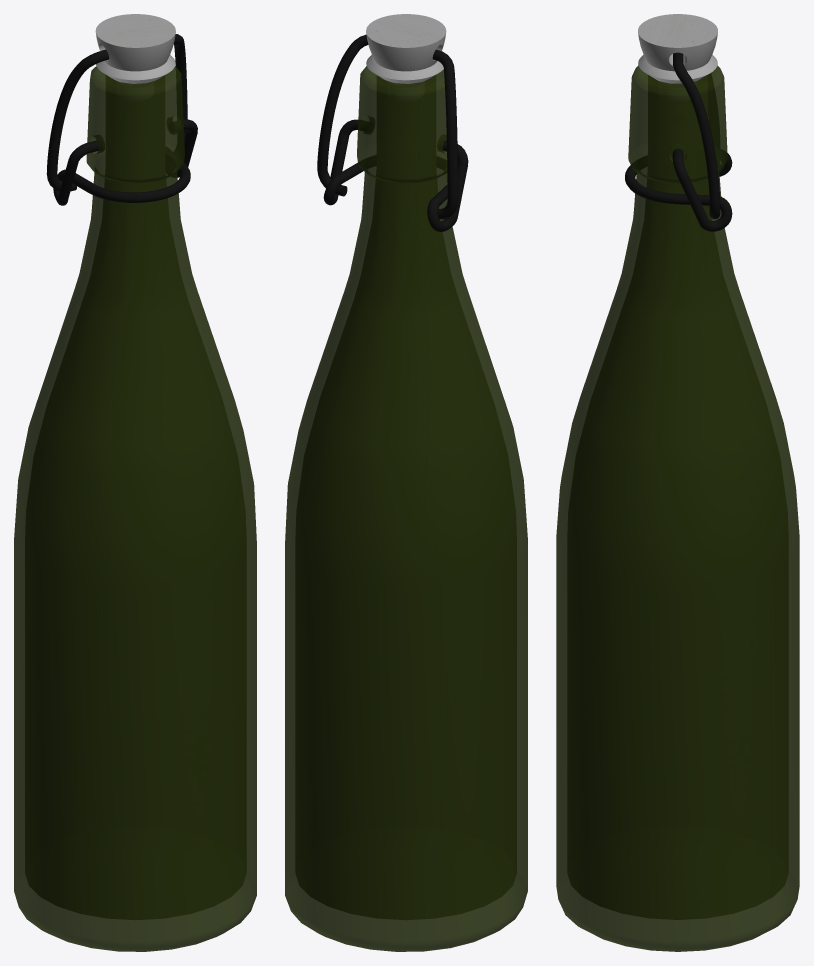
File: glass_bottle.glb
3 renders of one model, left to right at view 1: azimuth 30°, elevation 25°; view 2: azimuth 150°, elevation 25°; view 3: azimuth 270°, elevation 25°, orthographic.
Parts seen in each view (by area): view 1: Object_2; view 2: Object_2; view 3: Object_2.
Part boxes in pixels (box(x1,y1,x2,y2)): Object_2: box(14, 14, 256, 951); Object_2: box(285, 14, 527, 951); Object_2: box(556, 14, 799, 951).
Bounding box in the file's own units: 2.59 × 10.3 × 2.59.
1 material, 1 textured.
